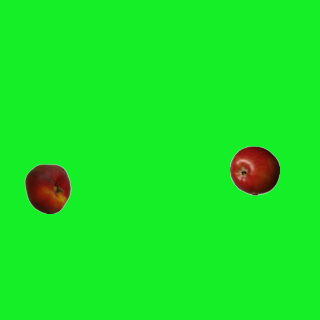Apple Braeburn: (229, 145, 279, 195)
Nectarine Flat: (22, 163, 72, 213)
